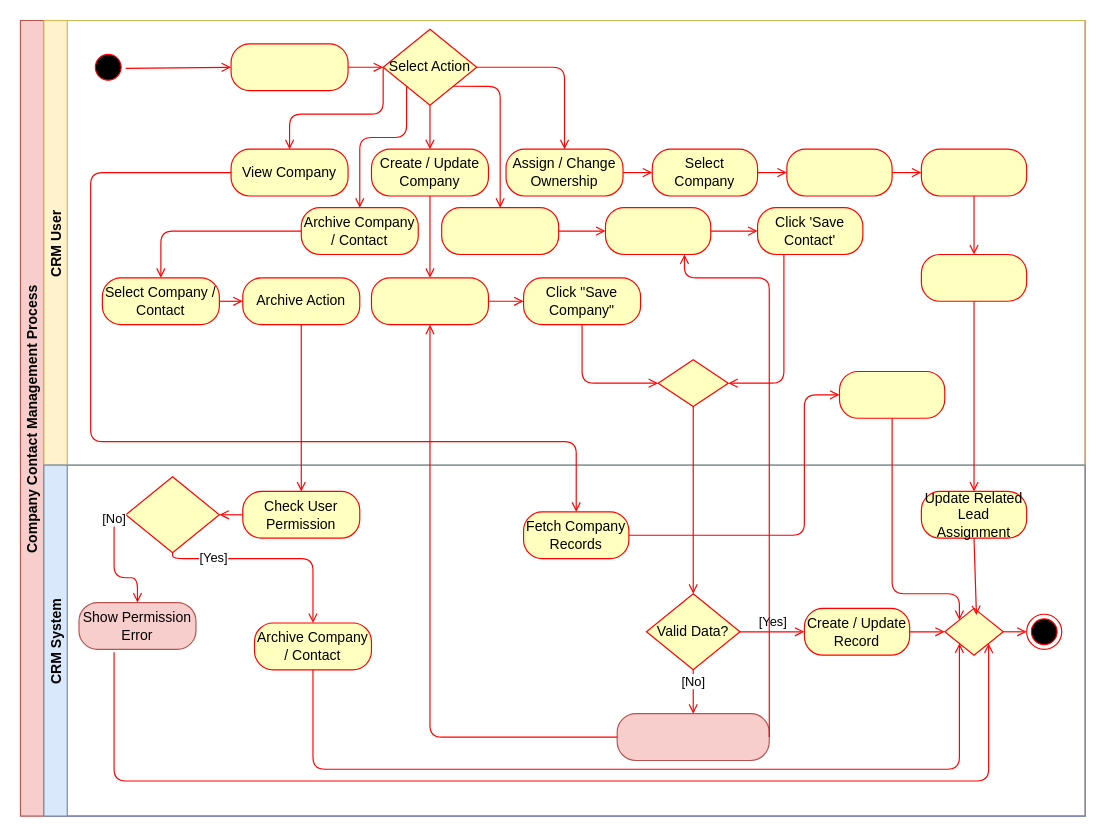
The diagram is 1106 pixels wide and 837 high, and some of its shapes have lost their labels. The shapes that lost their labels are listed below. From the top down, each one's centre as x and y in pixels, then its label:
At point 289,67: "Open Company & Contact Directory".
At point 839,172: "Select New Owner".
At point 973,172: "Save Ownership Change".
At point 500,230: "Manage Contact".
At point 657,230: "Add / Update Contact Details".
At point 973,277: "Update Company Ownership".
At point 429,301: "Enter / Update Company Details".
At point 891,394: "Display Company Records".
At point 172,514: "User Authorised?".
At point 692,736: "Show Error & Request Correction".
